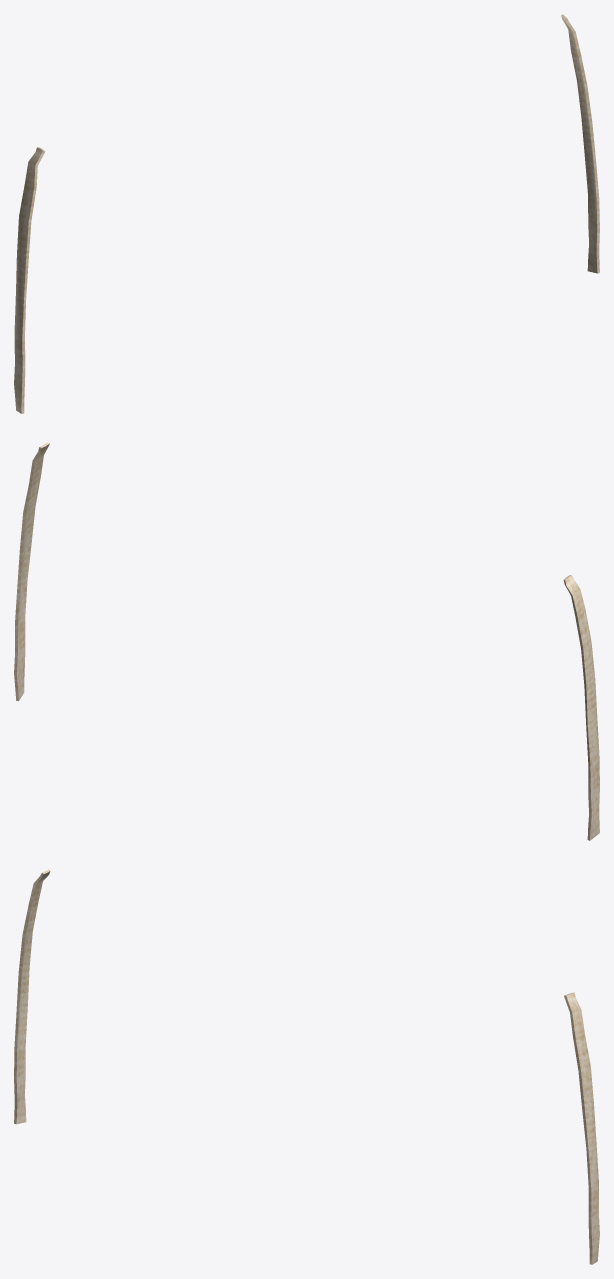
The model's file is pocket_seam.glb.
3 renders of one model, top to bottom at view 1: azimuth 30°, elevation 25°; view 2: azimuth 150°, elevation 25°; view 3: azimuth 330°, elevation 25°, orthographic.
Parts seen in each view (by area): view 1: pocket_seam1; view 2: pocket_seam1; view 3: pocket_seam1.
Part boxes in pixels (x1,y1,x2,y2): pocket_seam1: [14, 14, 599, 413]; pocket_seam1: [14, 442, 599, 840]; pocket_seam1: [14, 869, 599, 1264].
Bounding box in the file's own units: 0.0505 × 0.0219 × 0.00164.
Materials: 1 (1 with a texture image).
